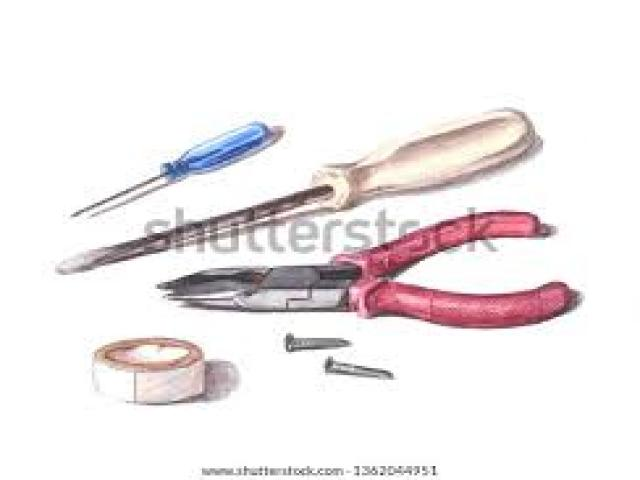Needle-nose pliers: (159, 212, 578, 327)
Screwdriver: (56, 111, 540, 274), (75, 121, 284, 217)
